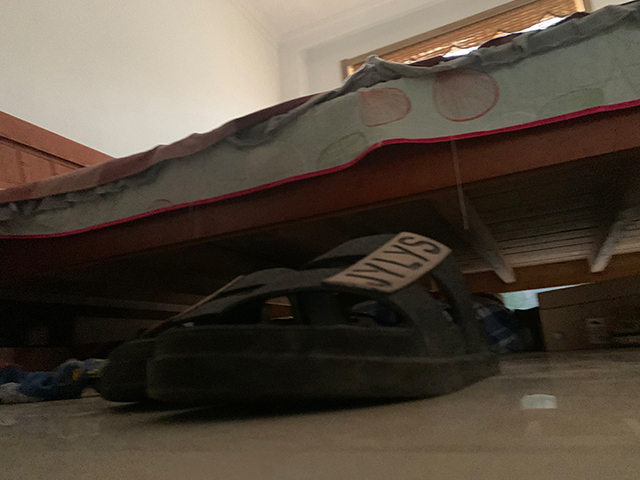bed: (1, 1, 640, 371)
slippers: (99, 230, 497, 407)
socks: (1, 360, 104, 403)
